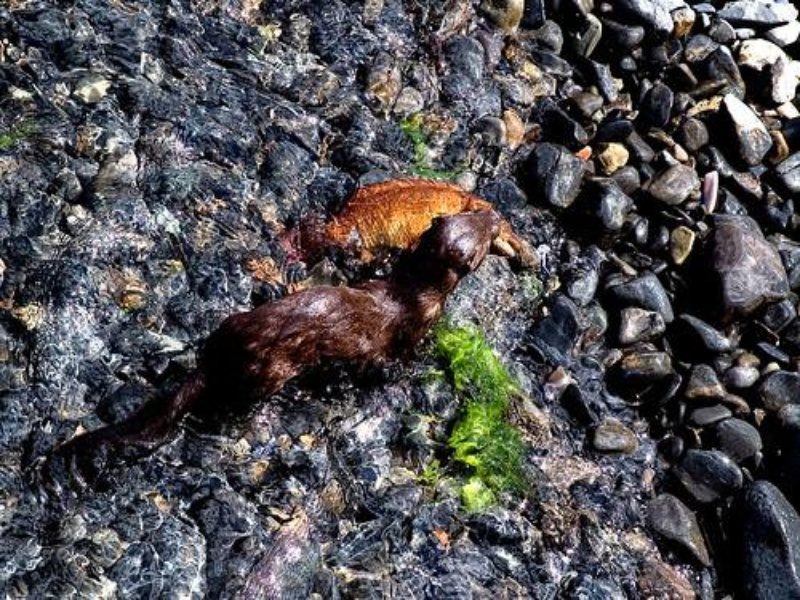minkish: (52, 206, 502, 471)
